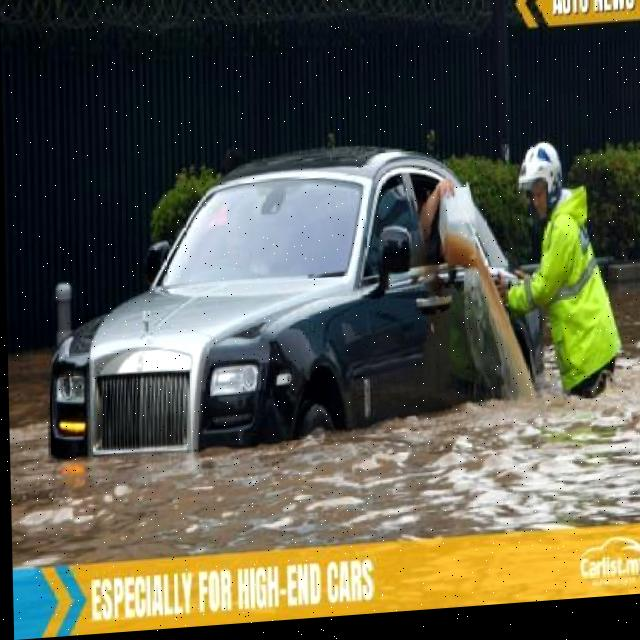rescuer: (506, 128, 629, 425)
